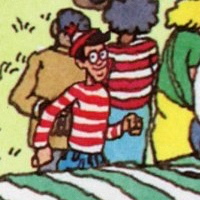waldo: (78, 27, 109, 84)
